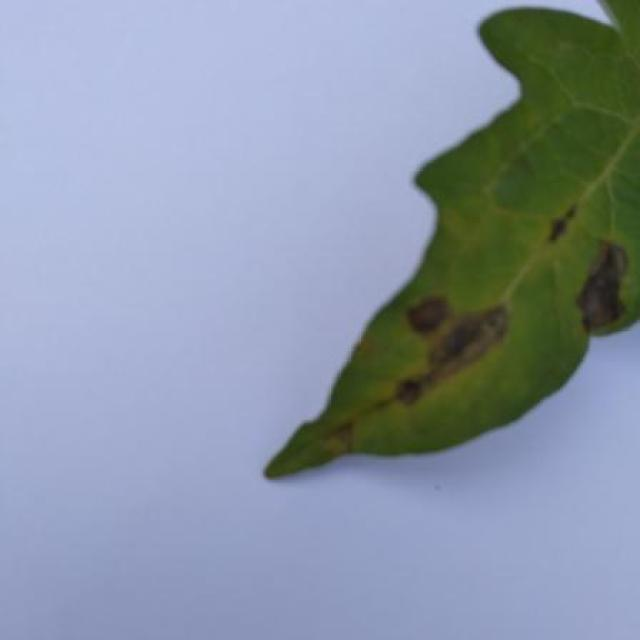Early Blight: (264, 0, 639, 484)
